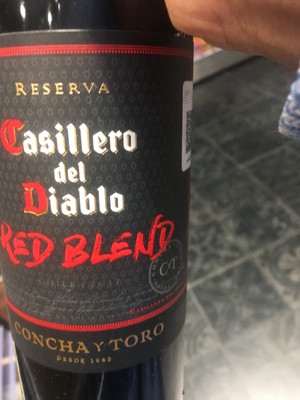casillero del diablo red blend: (1, 15, 189, 400)
